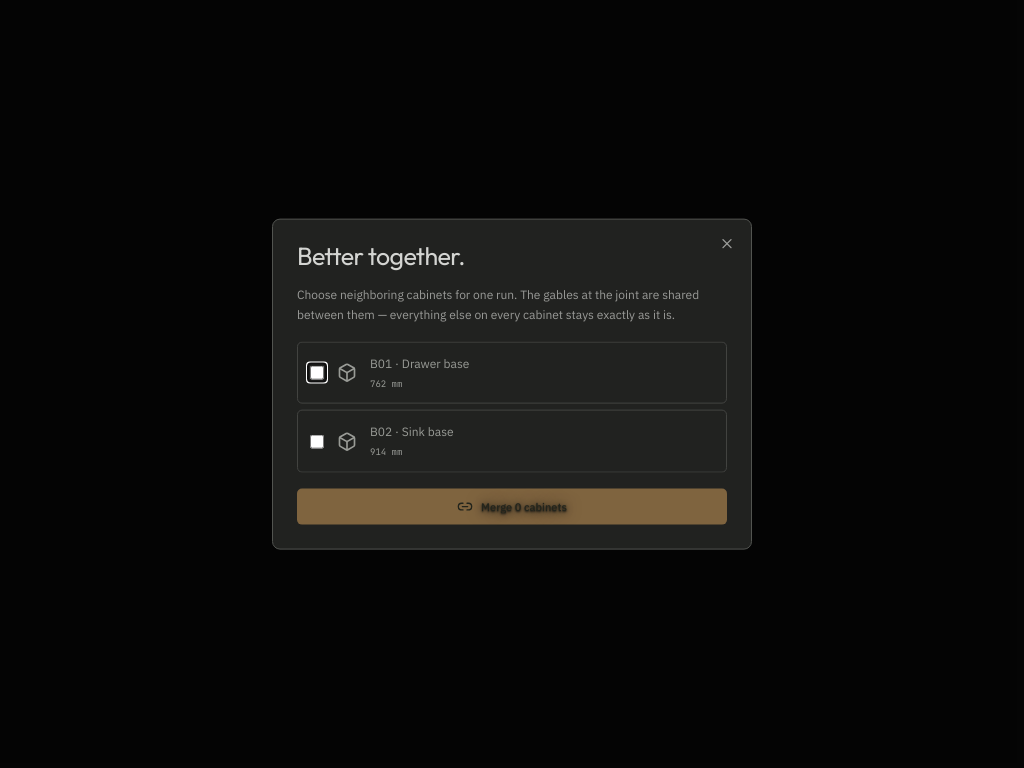
Test case: what the merge panel promises › says what the run will cost before the buttons are pressed
The width and height of the screenshot is (1024, 768).
Click the checkbox labelled "B01 · Drawer base 762 mm" at {"x": 317, "y": 373}, box [310,366,324,380]
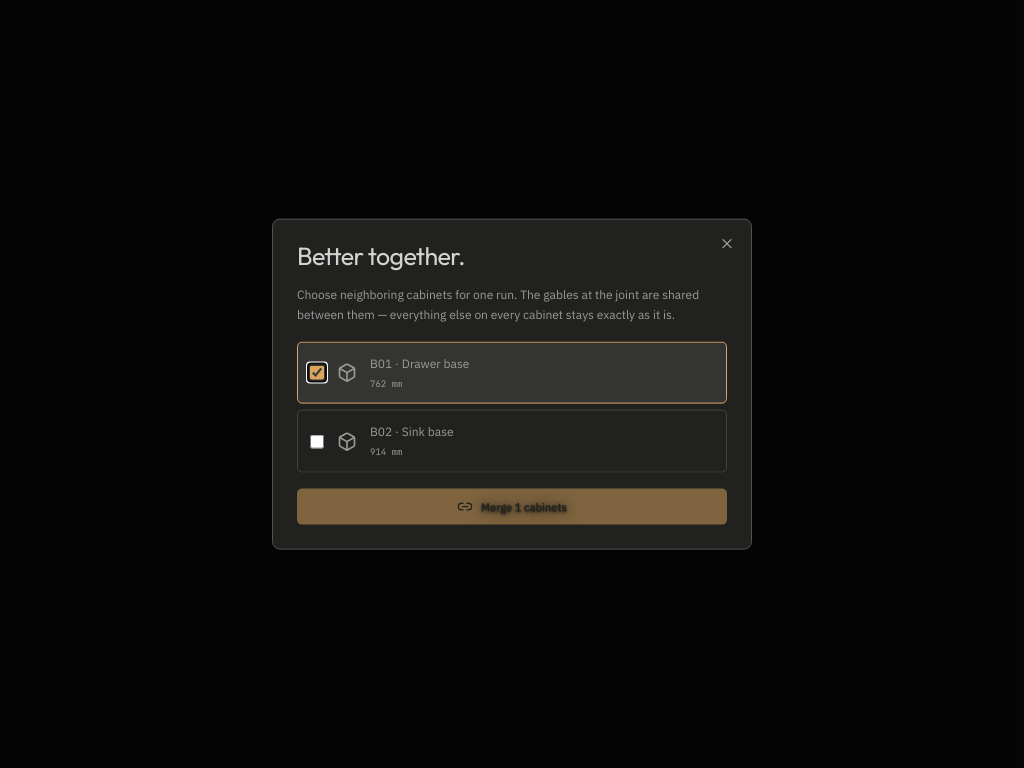
Click the checkbox labelled "B02 · Sink base 914 mm" at {"x": 317, "y": 441}, box [310,434,324,448]
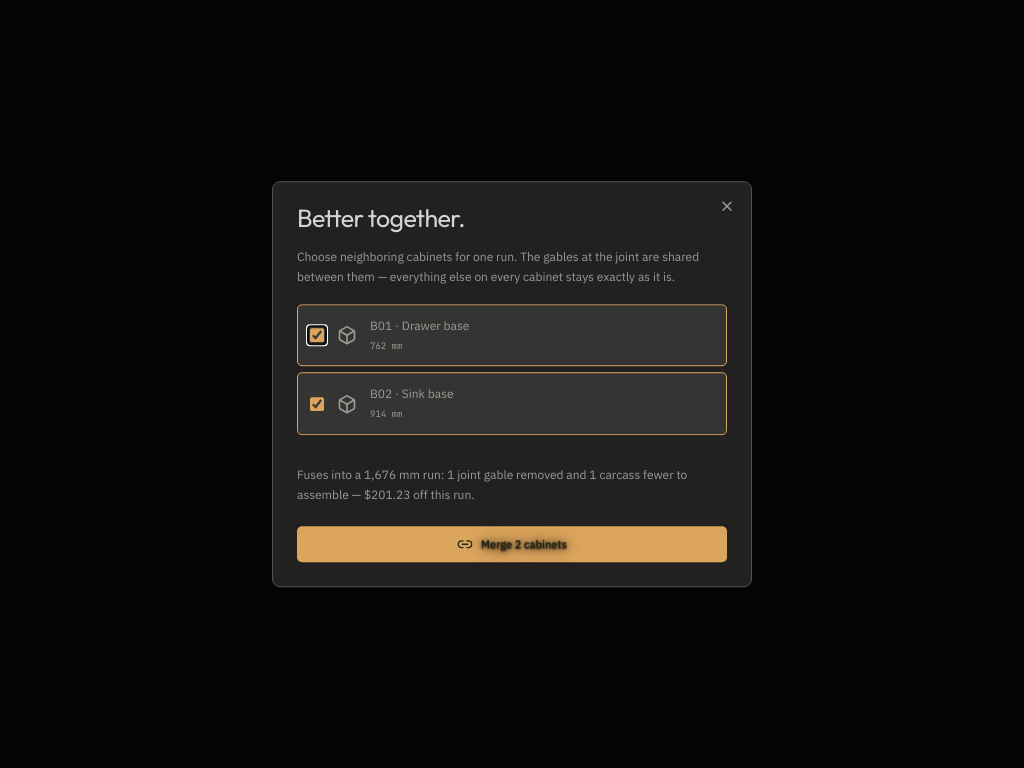
expect the text "1 joint gable removed" is shown: met, box [297,467,687,502]
expect the text "$201.23 off this run" is shown: met, box [297,467,687,502]
